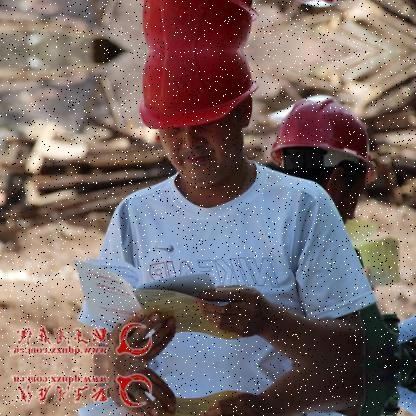helmet: (126, 49, 278, 192), (271, 82, 382, 204), (125, 0, 278, 50)
